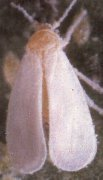whitefly: (3, 1, 99, 173)
